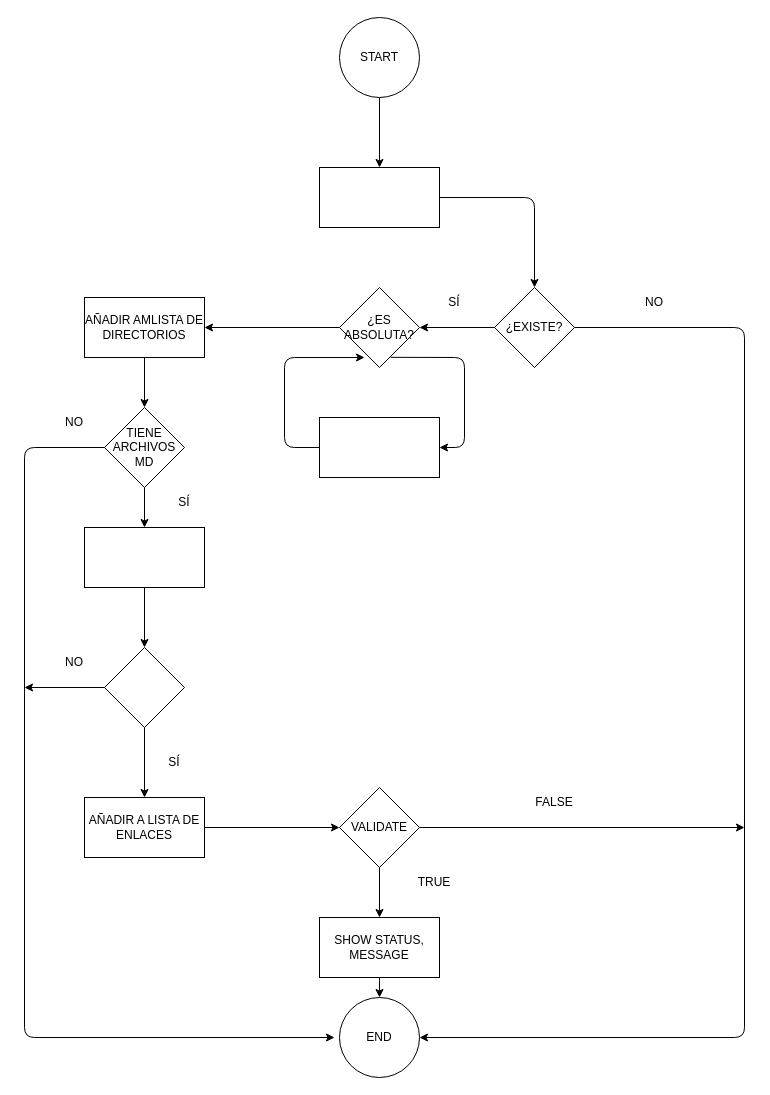
The diagram is 770 pixels wide and 1095 high, and some of its shapes have lost their labels. The centre of each missing label's shape, as x and y in pixels:
"AÑADIR A LISTA DE ARCHIVOS MD" goes at point (144, 557).
"CONVERTIR A ABSOLUTA" goes at point (379, 447).
"INGRESAR PATH, OPTIONS" goes at point (379, 197).
"TIENE ENLACES" goes at point (144, 687).
